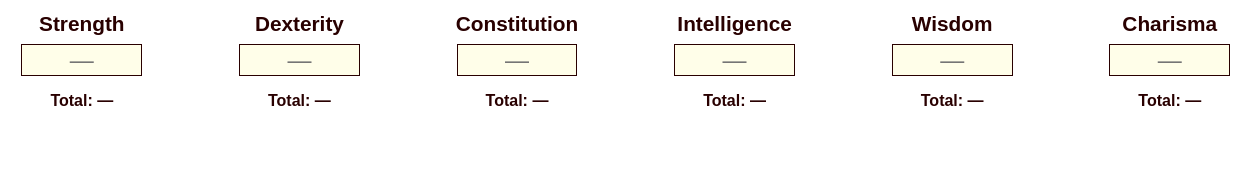
it: only shows total when base score is set
The image size is (1247, 172).
Type "14" into the field labelled "Strength". click: [82, 60]
box: 21,44 -> 142,76
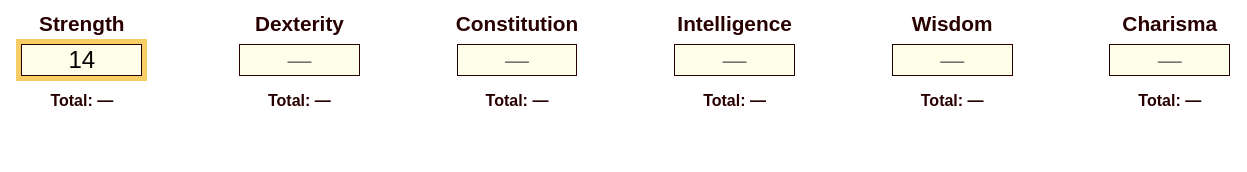
Click the text "Total: —" below "Strength". click: [82, 101]
box: 50,92 -> 113,110
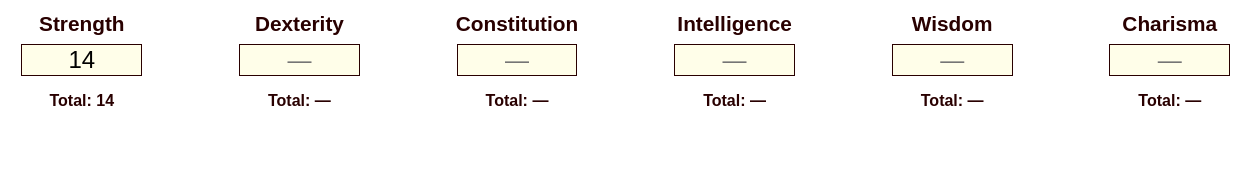
Now the text "Total: 14" is shown, box 50,92 -> 114,110
